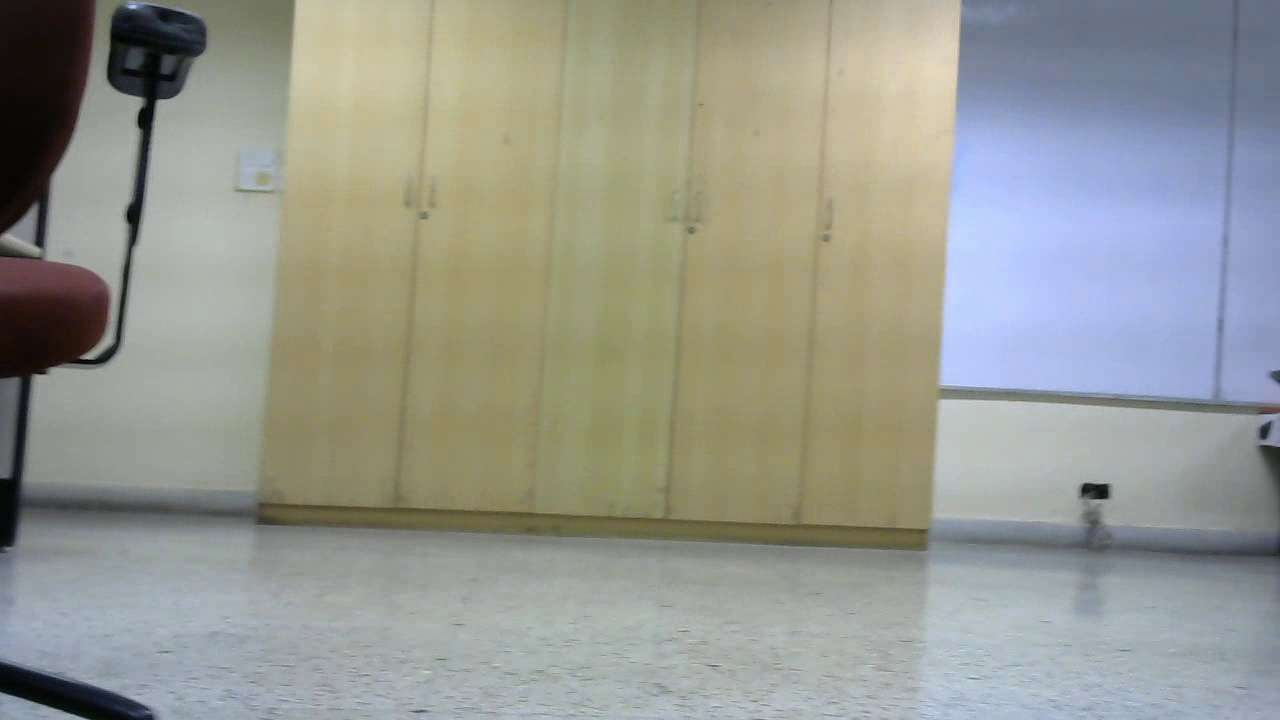chair: (715, 156, 1072, 619), (269, 133, 483, 545)
